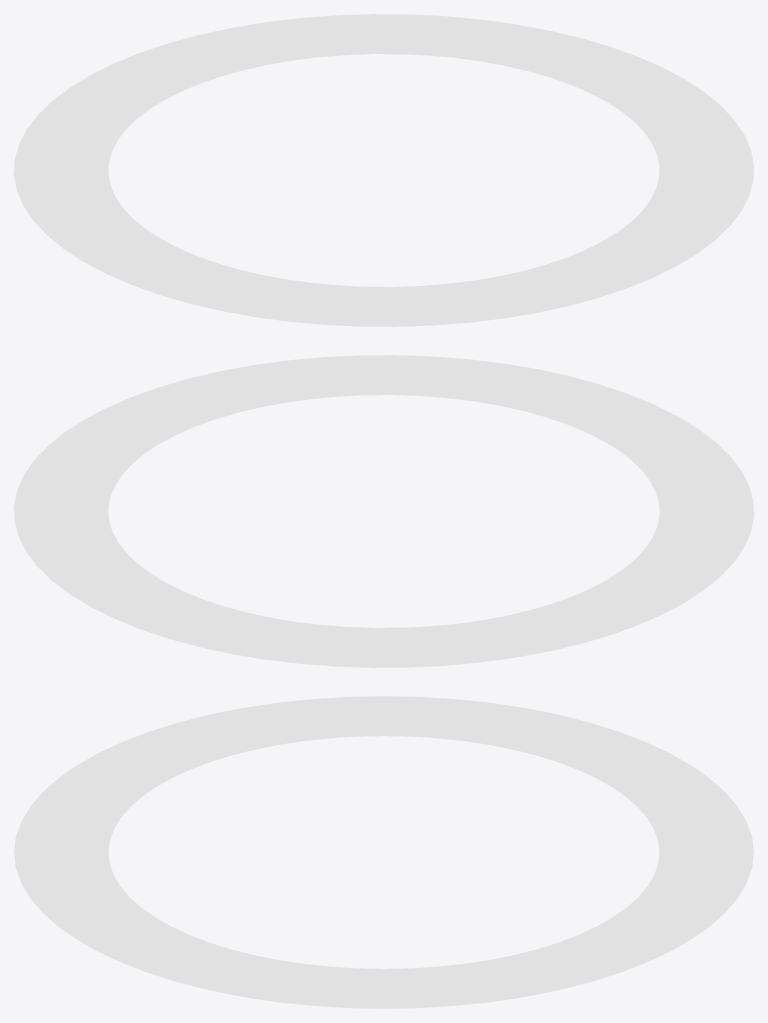
File: Ring.obj
3 renders of one model, top to bottom at view 1: azimuth 30°, elevation 25°; view 2: azimuth 150°, elevation 25°; view 3: azimuth 270°, elevation 25°, orthographic.
Visible parts, largest first — view 1: トーラス.001; view 2: トーラス.001; view 3: トーラス.001.
Part boxes in pixels (left/top/right/bottom): トーラス.001: left=14, top=14, right=753, bottom=326; トーラス.001: left=14, top=355, right=753, bottom=667; トーラス.001: left=14, top=696, right=753, bottom=1008.
Size of the model in its own units: 2.5 by 0 by 2.5.
1 material, 1 textured.
